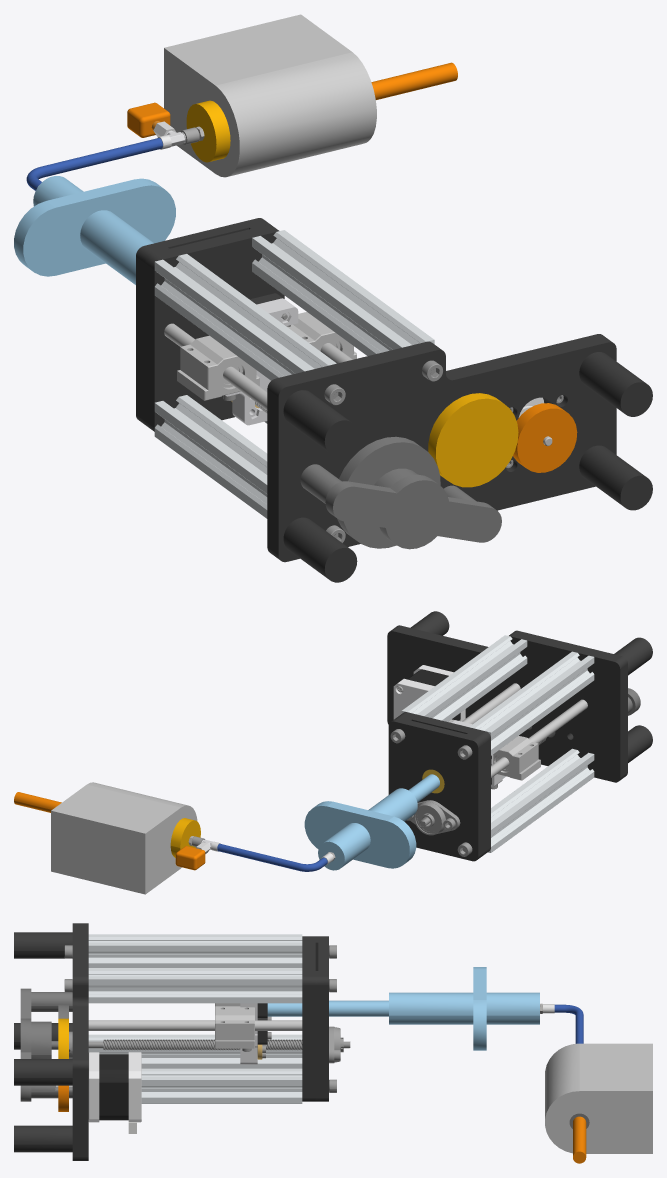
The model's file is actuator.glb.
3 renders of one model, top to bottom at view 1: azimuth 30°, elevation 25°; view 2: azimuth 150°, elevation 25°; view 3: azimuth 270°, elevation 25°, orthographic. The views are drawn at different scales.
Parts seen in each view (by area): view 1: Soporte polea-motor:1__Cuerpo1, Perfil T-slot 20x20x160mm v2:1__Cuerpo1 (×3), Part 16, Part 48, Part 1, Soporte jeringa A:1__Cuerpo1, Part 49, 9338T51_Mounted Linear Ball Bearing:3__Cuerpo1 (×2), Part 47, Soporte jeringa B:1__Cuerpo1, Part 10, Part 3 (+4 smaller); view 2: Soporte polea-motor:1__Cuerpo1, Perfil T-slot 20x20x160mm v2:1__Cuerpo1 (×3), Part 16, Soporte jeringa B:1__Cuerpo1, Part 1 (×2), Eje 8 mm:1__Cuerpo1 (×2), Soporte jeringa A:1__Cuerpo1, 9338T51_Mounted Linear Ball Bearing:3__Cuerpo1, KFL08 v1 v1:1__Cuerpo1, Part 3, NEMA17 v1:1__Cuerpo1, Part 10 (+3 smaller); view 3: Perfil T-slot 20x20x160mm v2:1__Cuerpo1 (×4), Part 16, Soporte polea-motor:1__Cuerpo1, Part 1 (×2), Part 48, Soporte jeringa A:1__Cuerpo1, Soporte jeringa B:1__Cuerpo1, NEMA17 v1:1__Cuerpo2, Eje 8 mm:1__Cuerpo1, Fuso trapezoidal TR8_Passo 2mm - Passo total 8mm v1:1__Cuerp, 9338T51_Mounted Linear Ball Bearing:3__Cuerpo1, NEMA17 v1:1__Cuerpo1 (+6 smaller).
Part boxes in pixels (box(x1,y1,x2,y2)): Soporte polea-motor:1__Cuerpo1: box(267, 334, 652, 582); Perfil T-slot 20x20x160mm v2:1__Cuerpo1 (×3): box(154, 230, 434, 518); Part 16: box(164, 14, 376, 177); Part 48: box(300, 436, 501, 549); Part 1: box(14, 176, 175, 284); Soporte jeringa A:1__Cuerpo1: box(145, 225, 284, 431); Part 49: box(428, 393, 518, 487); 9338T51_Mounted Linear Ball Bearing:3__Cuerpo1 (×2): box(177, 312, 356, 400); Part 47: box(513, 403, 577, 472); Soporte jeringa B:1__Cuerpo1: box(136, 218, 271, 425); Part 10: box(186, 100, 230, 162); Part 3: box(26, 138, 162, 190); Soporte polea-motor:1__Cuerpo1: box(387, 611, 652, 782); Perfil T-slot 20x20x160mm v2:1__Cuerpo1 (×3): box(401, 635, 594, 852); Part 16: box(51, 782, 197, 894); Soporte jeringa B:1__Cuerpo1: box(388, 716, 484, 861); Part 1 (×2): box(304, 774, 439, 870); Eje 8 mm:1__Cuerpo1 (×2): box(462, 683, 587, 777); Soporte jeringa A:1__Cuerpo1: box(398, 712, 490, 854); 9338T51_Mounted Linear Ball Bearing:3__Cuerpo1: box(493, 736, 540, 780); KFL08 v1 v1:1__Cuerpo1: box(410, 800, 460, 835); Part 3: box(217, 843, 327, 871); NEMA17 v1:1__Cuerpo1: box(393, 678, 434, 719); Part 10: box(170, 818, 200, 857); Perfil T-slot 20x20x160mm v2:1__Cuerpo1 (×4): box(88, 934, 302, 1103); Part 16: box(545, 1043, 652, 1153); Soporte polea-motor:1__Cuerpo1: box(14, 923, 88, 1160); Part 1 (×2): box(267, 967, 539, 1050); Part 48: box(20, 988, 72, 1101); Soporte jeringa A:1__Cuerpo1: box(302, 936, 315, 1101); Soporte jeringa B:1__Cuerpo1: box(315, 936, 328, 1101); NEMA17 v1:1__Cuerpo2: box(99, 1054, 128, 1120); Eje 8 mm:1__Cuerpo1: box(88, 1020, 302, 1030); Fuso trapezoidal TR8_Passo 2mm - Passo total 8mm v1:1__Cuerp: box(88, 1039, 350, 1050); 9338T51_Mounted Linear Ball Bearing:3__Cuerpo1: box(215, 1007, 254, 1048); NEMA17 v1:1__Cuerpo1: box(128, 1052, 141, 1122).
Bounding box in the file's own units: 327 × 103 × 479.
